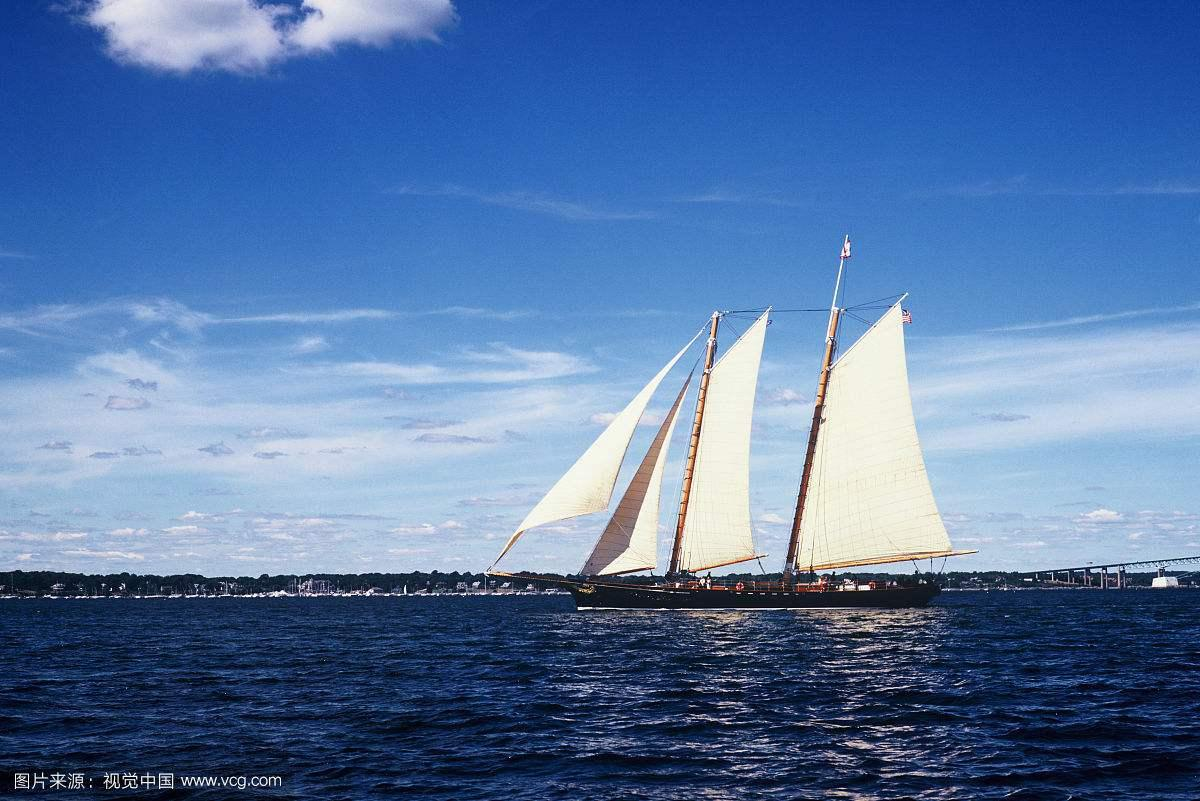fanchuan: (483, 230, 982, 622)
